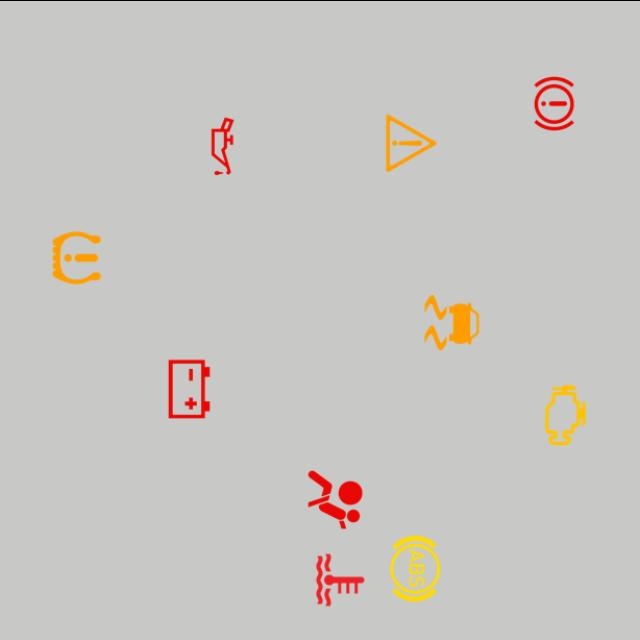Anti Lock Braking System: (379, 532, 452, 604)
Braking System Issue: (518, 66, 590, 138)
Charging System Issue: (153, 352, 225, 424)
Check Engine: (530, 378, 602, 451)
Electronic Stability Problem -ESP-: (416, 286, 488, 358)
Engine Overheating Warning Light: (304, 543, 376, 615)
Low Engine Oil Warning Light: (186, 110, 258, 182)
Low Tire Pressure Warning Light: (41, 221, 112, 293)
Master warning light: (375, 106, 447, 178)
SRS-Airbag: (299, 463, 371, 535)
